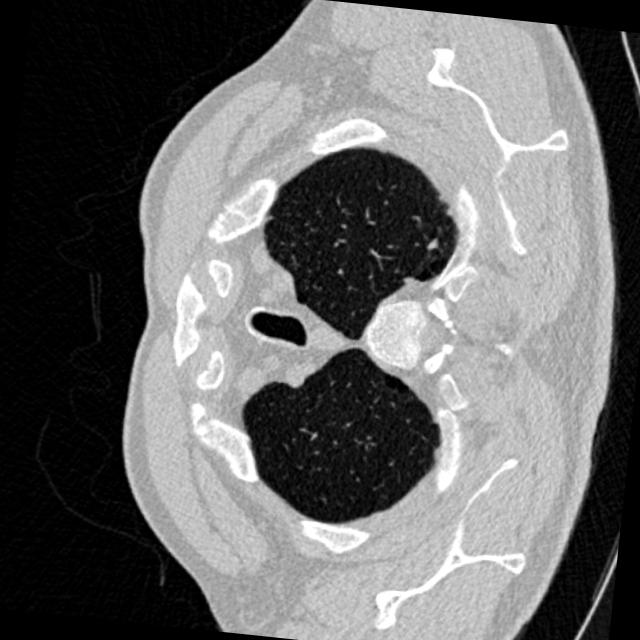nodule: (418, 228, 444, 256)
